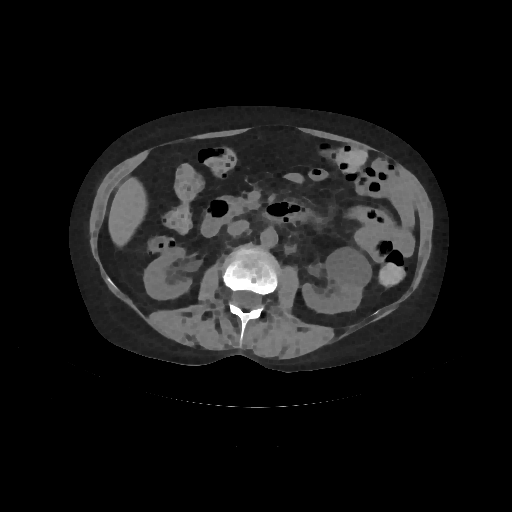Lesion: (320, 243, 373, 293)
